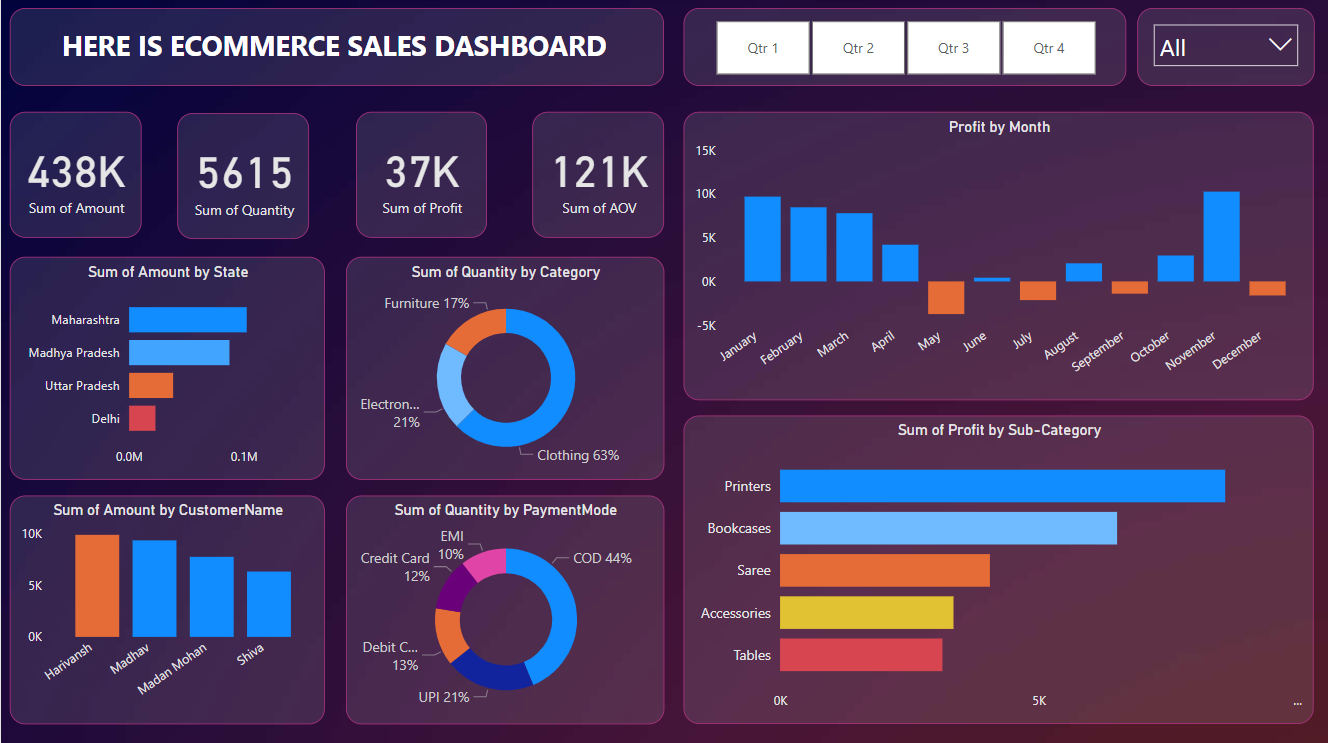

The page's visual inventory and layout, read from the dashboard file:
{"tool":"powerbi","page":{"name":"Page 1","canvas":[1280,720],"ordinal":0},"visuals":[{"type":"textbox","box":[8,9.6,631.5,75.3],"z":0},{"type":"columnChart","title":"Profit by Month","fields":{"Y":["Details.Profit"],"Category":["Orders.Order Date.Variation.Date Hierarchy.Month"]},"box":[658.9,109.6,608.2,278.1],"z":1000},{"type":"barChart","fields":{"Category":["Details.Sub-Category"],"Y":["Details.Profit"]},"box":[658.9,402.7,608.2,297.3],"z":2000},{"type":"donutChart","fields":{"Category":["Details.Category"],"Y":["Details.Quantity"]},"box":[332.9,249.3,306.8,215.1],"z":3000},{"type":"donutChart","fields":{"Y":["Details.Quantity"],"Category":["Details.PaymentMode"]},"box":[332.9,479.5,306.8,220.5],"z":4000},{"type":"card","fields":{"Values":["Details.Amount"]},"box":[8.1,109.5,127,121.6],"z":5000},{"type":"card","fields":{"Values":["Details.Quantity"]},"box":[169.9,111,127.4,121.9],"z":6000},{"type":"card","fields":{"Values":["Details.Profit"]},"box":[342.5,109.6,126,121.9],"z":7000},{"type":"card","fields":{"Values":["Details.AOV"]},"box":[512.3,109.6,127.4,121.9],"z":8000},{"type":"barChart","fields":{"Category":["Orders.State"],"Y":["Details.Amount"]},"box":[8.2,249.3,304.1,215.1],"z":9000},{"type":"columnChart","fields":{"Category":["Orders.CustomerName"],"Y":["Details.Amount"]},"box":[8.2,479.5,304.1,220.5],"z":10000},{"type":"slicer","fields":{"Values":["Orders.Order Date.Variation.Date Hierarchy.Quarter"]},"box":[658.9,9.6,427.4,75.3],"z":11000},{"type":"slicer","fields":{"Values":["Orders.State"]},"box":[1109.5,9.6,156.8,74.8],"z":12000}]}

Visuals, with their boxes in screenshot pixels (x1, y1, x2, y2), scaled from the page's 1280x720 canvas onto the 1328x743 screenshot:
textbox: x1=8 y1=10 x2=663 y2=88
"Profit by Month" columnChart: x1=684 y1=113 x2=1315 y2=400
barChart - Details.Sub-Category x Details.Profit: x1=684 y1=416 x2=1315 y2=722
donutChart - Details.Category x Details.Quantity: x1=345 y1=257 x2=664 y2=479
donutChart - Details.Quantity x Details.PaymentMode: x1=345 y1=495 x2=664 y2=722
card - Details.Amount: x1=8 y1=113 x2=140 y2=238
card - Details.Quantity: x1=176 y1=115 x2=308 y2=240
card - Details.Profit: x1=355 y1=113 x2=486 y2=239
card - Details.AOV: x1=532 y1=113 x2=664 y2=239
barChart - Orders.State x Details.Amount: x1=9 y1=257 x2=324 y2=479
columnChart - Orders.CustomerName x Details.Amount: x1=9 y1=495 x2=324 y2=722
slicer - Orders.Order Date.Variation.Date Hierarchy.Quarter: x1=684 y1=10 x2=1127 y2=88
slicer - Orders.State: x1=1151 y1=10 x2=1314 y2=87
